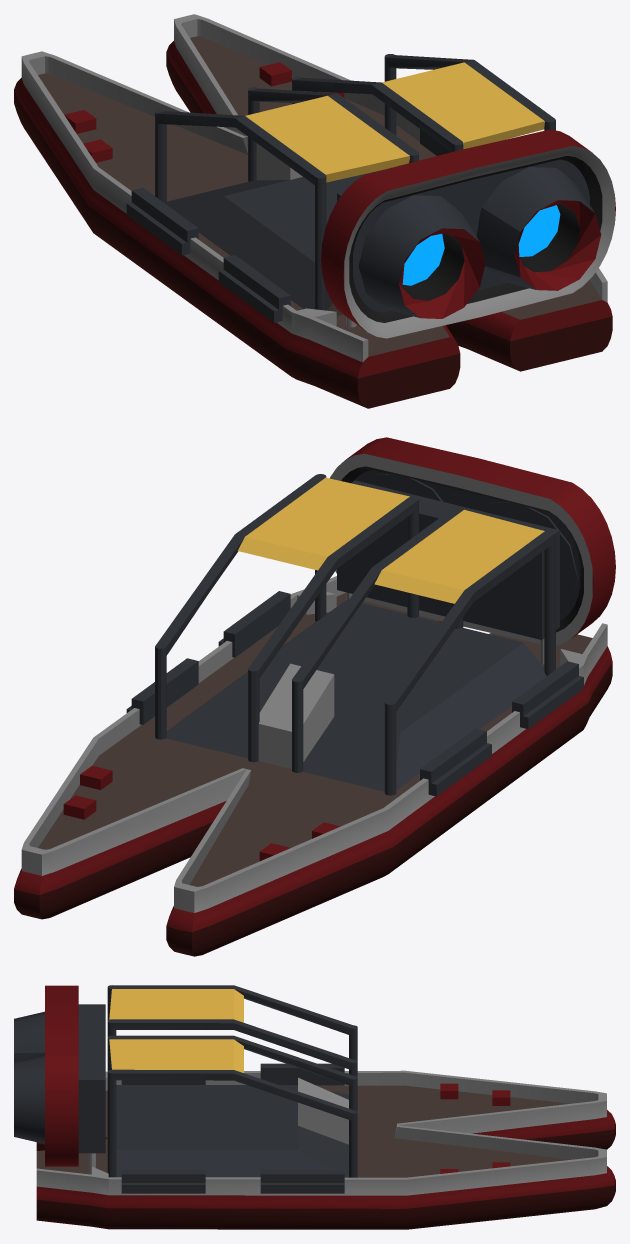
File: TallRoofBoat.glb
The picture shows the model from 3 angles, top to bottom: view 1: azimuth 30°, elevation 25°; view 2: azimuth 150°, elevation 25°; view 3: azimuth 270°, elevation 25°; orthographic projection. The views are drawn at different scales.
Parts seen in each view (by area): view 1: LobbyBoat; view 2: LobbyBoat; view 3: LobbyBoat.
Boxes of the visible parts, left/top/right/bottom form: LobbyBoat: left=14, top=14, right=615, bottom=408; LobbyBoat: left=14, top=437, right=615, bottom=956; LobbyBoat: left=14, top=985, right=615, bottom=1229.
Size of the model in its own units: 16.28 by 10.49 by 36.21.
